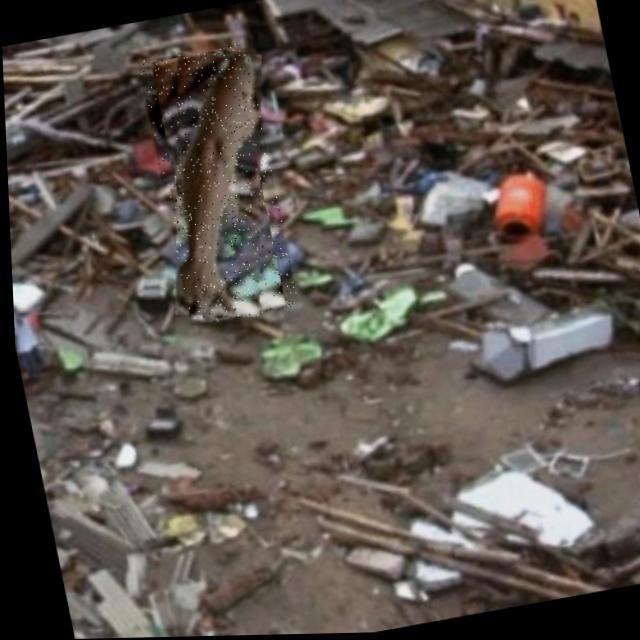Person in Rubble: (136, 43, 297, 328)
